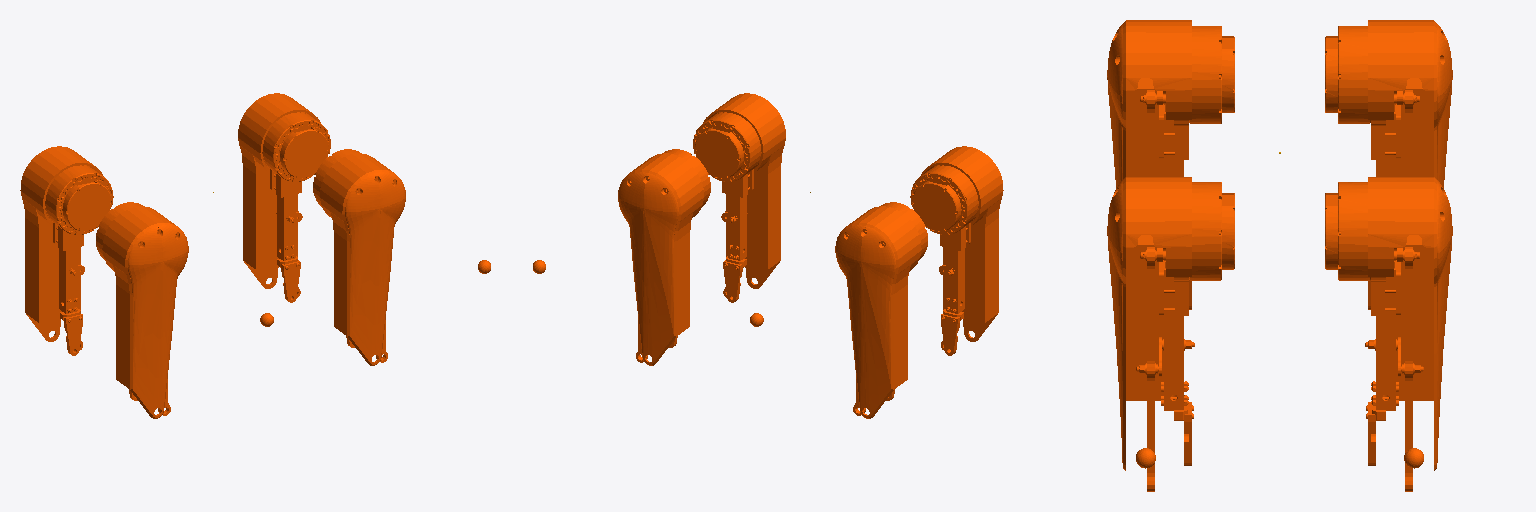
URDF robot description (a1):
<?xml version="1.0" encoding="utf-8"?>
<!-- =================================================================================== -->
<!-- |    This document was autogenerated by xacro from robot.xacro                    | -->
<!-- |    EDITING THIS FILE BY HAND IS NOT RECOMMENDED                                 | -->
<!-- =================================================================================== -->
<robot name="a1">
  <material name="black">
    <color rgba="0.0 0.0 0.0 1.0"/>
  </material>
  <material name="blue">
    <color rgba="0.0 0.0 0.8 1.0"/>
  </material>
  <material name="green">
    <color rgba="0.0 0.8 0.0 1.0"/>
  </material>
  <material name="grey">
    <color rgba="0.2 0.2 0.2 1.0"/>
  </material>
  <material name="silver">
    <color rgba="0.913725490196 0.913725490196 0.847058823529 1.0"/>
  </material>
  <material name="orange">
    <color rgba="1.0 0.423529411765 0.0392156862745 1.0"/>
  </material>
  <material name="brown">
    <color rgba="0.870588235294 0.811764705882 0.764705882353 1.0"/>
  </material>
  <material name="red">
    <color rgba="0.8 0.0 0.0 1.0"/>
  </material>
  <material name="white">
    <color rgba="1.0 1.0 1.0 1.0"/>
  </material>
  <link name="base">
    <visual>
      <origin rpy="0 0 0" xyz="0 0 0"/>
      <geometry>
        <box size="0.001 0.001 0.001"/>
      </geometry>
    </visual>
  </link>
  <joint name="floating_base" type="fixed">
    <origin rpy="0 0 0" xyz="0 0 0"/>
    <parent link="base"/>
    <child link="trunk"/>
  </joint>
  <link name="trunk">
    <visual>
      <origin rpy="0 0 0" xyz="0 0 0"/>
      <geometry>
           <mesh filename="../meshes/trunk.dae" scale="1 1 1"/>
      </geometry>
      <material name="black"/>
    </visual>
    <collision>
      <origin rpy="0 0 0" xyz="0 0 0"/>
      <geometry>
        <box size="0.267 0.194 0.114"/>
      </geometry>
    </collision>
    <inertial>
      <origin rpy="0 0 0" xyz="0.0 0.0041 -0.0005"/>
      <mass value="6.0"/>
      <inertia ixx="0.0158533" ixy="-3.66e-05" ixz="-6.11e-05" iyy="0.0377999" iyz="-2.75e-05" izz="0.0456542"/>
    </inertial>
  </link>
  <joint name="imu_joint" type="fixed">
    <parent link="trunk"/>
    <child link="imu_link"/>
    <origin rpy="0 0 0" xyz="0 0 0"/>
  </joint>
  <link name="imu_link">
    <inertial>
      <mass value="0.001"/>
      <origin rpy="0 0 0" xyz="0 0 0"/>
      <inertia ixx="0.0001" ixy="0" ixz="0" iyy="0.0001" iyz="0" izz="0.0001"/>
    </inertial>
    <visual>
      <origin rpy="0 0 0" xyz="0 0 0"/>
      <geometry>
        <box size="0.001 0.001 0.001"/>
      </geometry>
      <material name="red"/>
    </visual>
    <collision>
      <origin rpy="0 0 0" xyz="0 0 0"/>
      <geometry>
        <box size=".001 .001 .001"/>
      </geometry>
    </collision>
  </link>
  <joint name="FR_hip_joint" type="revolute">
    <origin rpy="0 0 0" xyz="0.1805 -0.047 0"/>
    <parent link="trunk"/>
    <child link="FR_hip"/>
    <axis xyz="1 0 0"/>
    <dynamics damping="0." friction="0.0"/>
    <limit effort="33.5" lower="-0.802851455917" upper="0.802851455917" velocity="21"/>
  </joint>
  <link name="FR_hip">
    <visual>
      <origin rpy="3.14159265359 0 0" xyz="0 0 0"/>
      <geometry>
           <mesh filename="../meshes/hip.dae" scale="1 1 1"/>
      </geometry>
      <material name="orange"/>
    </visual>
    <collision>
      <origin rpy="1.57079632679 0 0" xyz="0 0 0"/>
      <geometry>
        <cylinder length="0.04" radius="0.046"/>
      </geometry>
    </collision>
    <inertial>
      <origin rpy="0 0 0" xyz="-0.003311 -0.000635 3.1e-05"/>
      <mass value="0.696"/>
      <inertia ixx="0.000469246" ixy="9.409e-06" ixz="-3.42e-07" iyy="0.00080749" iyz="4.66e-07" izz="0.000552929"/>
    </inertial>
  </link>
  <joint name="FR_hip_fixed" type="fixed">
    <origin rpy="0 0 0" xyz="0 -0.081 0"/>
    <parent link="FR_hip"/>
    <child link="FR_thigh_shoulder"/>
  </joint>
  <!-- this link is only for collision -->
  <link name="FR_thigh_shoulder">
    <collision>
      <origin rpy="1.57079632679 0 0" xyz="0 0 0"/>
      <geometry>
        <cylinder length="0.032" radius="0.041"/>
      </geometry>
    </collision>
  </link>
  <joint name="FR_thigh_joint" type="revolute">
    <origin rpy="0 0 0" xyz="0 -0.0838 0"/>
    <parent link="FR_hip"/>
    <child link="FR_thigh"/>
    <axis xyz="0 1 0"/>
    <dynamics damping="0." friction="0.0"/>
    <limit effort="33.5" lower="-1.0471975512" upper="4.18879020479" velocity="21"/>
  </joint>
  <link name="FR_thigh">
    <visual>
      <origin rpy="0 0 0" xyz="0 0 0"/>
      <geometry>
           <mesh filename="../meshes/thigh_mirror.dae" scale="1 1 1"/>
      </geometry>
      <material name="orange"/>
    </visual>
    <collision>
      <origin rpy="0 1.57079632679 0" xyz="0 0 -0.1"/>
      <geometry>
        <box size="0.2 0.0245 0.034"/>
      </geometry>
    </collision>
    <inertial>
      <origin rpy="0 0 0" xyz="-0.003237 0.022327 -0.027326"/>
      <mass value="1.013"/>
      <inertia ixx="0.005529065" ixy="-4.825e-06" ixz="0.000343869" iyy="0.005139339" iyz="-2.2448e-05" izz="0.001367788"/>
    </inertial>
  </link>
  <joint name="FR_calf_joint" type="revolute">
    <origin rpy="0 0 0" xyz="0 0 -0.2"/>
    <parent link="FR_thigh"/>
    <child link="FR_calf"/>
    <axis xyz="0 1 0"/>
    <dynamics damping="0." friction="0.0"/>
    <limit effort="33.5" lower="-2.69653369433" upper="-0.916297857297" velocity="21"/>
  </joint>
  <link name="FR_calf">
    <visual>
      <origin rpy="0 0 0" xyz="0 0 0"/>
      <geometry>
           <mesh filename="../meshes/calf.dae" scale="1 1 1"/>
      </geometry>
      <material name="orange"/>
    </visual>
    <collision>
      <origin rpy="0 1.57079632679 0" xyz="0 0 -0.1"/>
      <geometry>
        <box size="0.2 0.016 0.016"/>
      </geometry>
    </collision>
    <inertial>
      <origin rpy="0 0 0" xyz="0.006435 0.0 -0.107388"/>
      <mass value="0.166"/>
      <inertia ixx="0.002997972" ixy="0.0" ixz="-0.000141163" iyy="0.003014022" iyz="0.0" izz="3.2426e-05"/>
    </inertial>
  </link>
  <joint name="FR_foot_fixed" type="fixed"  dont_collapse="true">
    <origin rpy="0 0 0" xyz="0 0 -0.2"/>
    <parent link="FR_calf"/>
    <child link="FR_foot"/>
  </joint>
  <link name="FR_foot">
    <visual>
      <origin rpy="0 0 0" xyz="0 0 0"/>
      <geometry>
        <sphere radius="0.01"/>
      </geometry>
      <material name="orange"/>
    </visual>
    <collision>
      <origin rpy="0 0 0" xyz="0 0 0"/>
      <geometry>
        <sphere radius="0.02"/>
      </geometry>
    </collision>
    <inertial>
      <mass value="0.06"/>
      <inertia ixx="9.6e-06" ixy="0.0" ixz="0.0" iyy="9.6e-06" iyz="0.0" izz="9.6e-06"/>
    </inertial>
  </link>
  <joint name="FL_hip_joint" type="revolute">
    <origin rpy="0 0 0" xyz="0.1805 0.047 0"/>
    <parent link="trunk"/>
    <child link="FL_hip"/>
    <axis xyz="1 0 0"/>
    <dynamics damping="0." friction="0.0"/>
    <limit effort="33.5" lower="-0.802851455917" upper="0.802851455917" velocity="21"/>
  </joint>
  <link name="FL_hip">
    <visual>
      <origin rpy="0 0 0" xyz="0 0 0"/>
      <geometry>
           <mesh filename="../meshes/hip.dae" scale="1 1 1"/>
      </geometry>
      <material name="orange"/>
    </visual>
    <collision>
      <origin rpy="1.57079632679 0 0" xyz="0 0 0"/>
      <geometry>
        <cylinder length="0.04" radius="0.046"/>
      </geometry>
    </collision>
    <inertial>
      <origin rpy="0 0 0" xyz="-0.003311 0.000635 3.1e-05"/>
      <mass value="0.696"/>
      <inertia ixx="0.000469246" ixy="-9.409e-06" ixz="-3.42e-07" iyy="0.00080749" iyz="-4.66e-07" izz="0.000552929"/>
    </inertial>
  </link>
  <joint name="FL_hip_fixed" type="fixed">
    <origin rpy="0 0 0" xyz="0 0.081 0"/>
    <parent link="FL_hip"/>
    <child link="FL_thigh_shoulder"/>
  </joint>
  <!-- this link is only for collision -->
  <link name="FL_thigh_shoulder">
    <collision>
      <origin rpy="1.57079632679 0 0" xyz="0 0 0"/>
      <geometry>
        <cylinder length="0.032" radius="0.041"/>
      </geometry>
    </collision>
  </link>
  <joint name="FL_thigh_joint" type="revolute">
    <origin rpy="0 0 0" xyz="0 0.0838 0"/>
    <parent link="FL_hip"/>
    <child link="FL_thigh"/>
    <axis xyz="0 1 0"/>
    <dynamics damping="0." friction="0.0"/>
    <limit effort="33.5" lower="-1.0471975512" upper="4.18879020479" velocity="21"/>
  </joint>
  <link name="FL_thigh">
    <visual>
      <origin rpy="0 0 0" xyz="0 0 0"/>
      <geometry>
           <mesh filename="../meshes/thigh.dae" scale="1 1 1"/>
      </geometry>
      <material name="orange"/>
    </visual>
    <collision>
      <origin rpy="0 1.57079632679 0" xyz="0 0 -0.1"/>
      <geometry>
        <box size="0.2 0.0245 0.034"/>
      </geometry>
    </collision>
    <inertial>
      <origin rpy="0 0 0" xyz="-0.003237 -0.022327 -0.027326"/>
      <mass value="1.013"/>
      <inertia ixx="0.005529065" ixy="4.825e-06" ixz="0.000343869" iyy="0.005139339" iyz="2.2448e-05" izz="0.001367788"/>
    </inertial>
  </link>
  <joint name="FL_calf_joint" type="revolute">
    <origin rpy="0 0 0" xyz="0 0 -0.2"/>
    <parent link="FL_thigh"/>
    <child link="FL_calf"/>
    <axis xyz="0 1 0"/>
    <dynamics damping="0." friction="0.0"/>
    <limit effort="33.5" lower="-2.69653369433" upper="-0.916297857297" velocity="21"/>
  </joint>
  <link name="FL_calf">
    <visual>
      <origin rpy="0 0 0" xyz="0 0 0"/>
      <geometry>
           <mesh filename="../meshes/calf.dae" scale="1 1 1"/>
      </geometry>
      <material name="orange"/>
    </visual>
    <collision>
      <origin rpy="0 1.57079632679 0" xyz="0 0 -0.1"/>
      <geometry>
        <box size="0.2 0.016 0.016"/>
      </geometry>
    </collision>
    <inertial>
      <origin rpy="0 0 0" xyz="0.006435 0.0 -0.107388"/>
      <mass value="0.166"/>
      <inertia ixx="0.002997972" ixy="0.0" ixz="-0.000141163" iyy="0.003014022" iyz="0.0" izz="3.2426e-05"/>
    </inertial>
  </link>
  <joint name="FL_foot_fixed" type="fixed"  dont_collapse="true">
    <origin rpy="0 0 0" xyz="0 0 -0.2"/>
    <parent link="FL_calf"/>
    <child link="FL_foot"/>
  </joint>
  <link name="FL_foot">
    <visual>
      <origin rpy="0 0 0" xyz="0 0 0"/>
      <geometry>
        <sphere radius="0.01"/>
      </geometry>
      <material name="orange"/>
    </visual>
    <collision>
      <origin rpy="0 0 0" xyz="0 0 0"/>
      <geometry>
        <sphere radius="0.02"/>
      </geometry>
    </collision>
    <inertial>
      <mass value="0.06"/>
      <inertia ixx="9.6e-06" ixy="0.0" ixz="0.0" iyy="9.6e-06" iyz="0.0" izz="9.6e-06"/>
    </inertial>
  </link>
  <joint name="RR_hip_joint" type="revolute">
    <origin rpy="0 0 0" xyz="-0.1805 -0.047 0"/>
    <parent link="trunk"/>
    <child link="RR_hip"/>
    <axis xyz="1 0 0"/>
    <dynamics damping="0." friction="0.0"/>
    <limit effort="33.5" lower="-0.802851455917" upper="0.802851455917" velocity="21"/>
  </joint>
  <link name="RR_hip">
    <visual>
      <origin rpy="3.14159265359 3.14159265359 0" xyz="0 0 0"/>
      <geometry>
           <mesh filename="../meshes/hip.dae" scale="1 1 1"/>
      </geometry>
      <material name="orange"/>
    </visual>
    <collision>
      <origin rpy="1.57079632679 0 0" xyz="0 0 0"/>
      <geometry>
        <cylinder length="0.04" radius="0.046"/>
      </geometry>
    </collision>
    <inertial>
      <origin rpy="0 0 0" xyz="0.003311 -0.000635 3.1e-05"/>
      <mass value="0.696"/>
      <inertia ixx="0.000469246" ixy="-9.409e-06" ixz="3.42e-07" iyy="0.00080749" iyz="4.66e-07" izz="0.000552929"/>
    </inertial>
  </link>
  <joint name="RR_hip_fixed" type="fixed">
    <origin rpy="0 0 0" xyz="0 -0.081 0"/>
    <parent link="RR_hip"/>
    <child link="RR_thigh_shoulder"/>
  </joint>
  <!-- this link is only for collision -->
  <link name="RR_thigh_shoulder">
    <collision>
      <origin rpy="1.57079632679 0 0" xyz="0 0 0"/>
      <geometry>
        <cylinder length="0.032" radius="0.041"/>
      </geometry>
    </collision>
  </link>
  <joint name="RR_thigh_joint" type="revolute">
    <origin rpy="0 0 0" xyz="0 -0.0838 0"/>
    <parent link="RR_hip"/>
    <child link="RR_thigh"/>
    <axis xyz="0 1 0"/>
    <dynamics damping="0." friction="0.0"/>
    <limit effort="33.5" lower="-1.0471975512" upper="4.18879020479" velocity="21"/>
  </joint>
  <link name="RR_thigh">
    <visual>
      <origin rpy="0 0 0" xyz="0 0 0"/>
      <geometry>
           <mesh filename="../meshes/thigh_mirror.dae" scale="1 1 1"/>
      </geometry>
      <material name="orange"/>
    </visual>
    <collision>
      <origin rpy="0 1.57079632679 0" xyz="0 0 -0.1"/>
      <geometry>
        <box size="0.2 0.0245 0.034"/>
      </geometry>
    </collision>
    <inertial>
      <origin rpy="0 0 0" xyz="-0.003237 0.022327 -0.027326"/>
      <mass value="1.013"/>
      <inertia ixx="0.005529065" ixy="-4.825e-06" ixz="0.000343869" iyy="0.005139339" iyz="-2.2448e-05" izz="0.001367788"/>
    </inertial>
  </link>
  <joint name="RR_calf_joint" type="revolute">
    <origin rpy="0 0 0" xyz="0 0 -0.2"/>
    <parent link="RR_thigh"/>
    <child link="RR_calf"/>
    <axis xyz="0 1 0"/>
    <dynamics damping="0." friction="0.0"/>
    <limit effort="33.5" lower="-2.69653369433" upper="-0.916297857297" velocity="21"/>
  </joint>
  <link name="RR_calf">
    <visual>
      <origin rpy="0 0 0" xyz="0 0 0"/>
      <geometry>
           <mesh filename="../meshes/calf.dae" scale="1 1 1"/>
      </geometry>
      <material name="orange"/>
    </visual>
    <collision>
      <origin rpy="0 1.57079632679 0" xyz="0 0 -0.1"/>
      <geometry>
        <box size="0.2 0.016 0.016"/>
      </geometry>
    </collision>
    <inertial>
      <origin rpy="0 0 0" xyz="0.006435 0.0 -0.107388"/>
      <mass value="0.166"/>
      <inertia ixx="0.002997972" ixy="0.0" ixz="-0.000141163" iyy="0.003014022" iyz="0.0" izz="3.2426e-05"/>
    </inertial>
  </link>
  <joint name="RR_foot_fixed" type="fixed"  dont_collapse="true">
    <origin rpy="0 0 0" xyz="0 0 -0.2"/>
    <parent link="RR_calf"/>
    <child link="RR_foot"/>
  </joint>
  <link name="RR_foot">
    <visual>
      <origin rpy="0 0 0" xyz="0 0 0"/>
      <geometry>
        <sphere radius="0.01"/>
      </geometry>
      <material name="orange"/>
    </visual>
    <collision>
      <origin rpy="0 0 0" xyz="0 0 0"/>
      <geometry>
        <sphere radius="0.02"/>
      </geometry>
    </collision>
    <inertial>
      <mass value="0.06"/>
      <inertia ixx="9.6e-06" ixy="0.0" ixz="0.0" iyy="9.6e-06" iyz="0.0" izz="9.6e-06"/>
    </inertial>
  </link>
  <joint name="RL_hip_joint" type="revolute">
    <origin rpy="0 0 0" xyz="-0.1805 0.047 0"/>
    <parent link="trunk"/>
    <child link="RL_hip"/>
    <axis xyz="1 0 0"/>
    <dynamics damping="0." friction="0.0"/>
    <limit effort="33.5" lower="-0.802851455917" upper="0.802851455917" velocity="21"/>
  </joint>
  <link name="RL_hip">
    <visual>
      <origin rpy="0 3.14159265359 0" xyz="0 0 0"/>
      <geometry>
           <mesh filename="../meshes/hip.dae" scale="1 1 1"/>
      </geometry>
      <material name="orange"/>
    </visual>
    <collision>
      <origin rpy="1.57079632679 0 0" xyz="0 0 0"/>
      <geometry>
        <cylinder length="0.04" radius="0.046"/>
      </geometry>
    </collision>
    <inertial>
      <origin rpy="0 0 0" xyz="0.003311 0.000635 3.1e-05"/>
      <mass value="0.696"/>
      <inertia ixx="0.000469246" ixy="9.409e-06" ixz="3.42e-07" iyy="0.00080749" iyz="-4.66e-07" izz="0.000552929"/>
    </inertial>
  </link>
  <joint name="RL_hip_fixed" type="fixed">
    <origin rpy="0 0 0" xyz="0 0.081 0"/>
    <parent link="RL_hip"/>
    <child link="RL_thigh_shoulder"/>
  </joint>
  <!-- this link is only for collision -->
  <link name="RL_thigh_shoulder">
    <collision>
      <origin rpy="1.57079632679 0 0" xyz="0 0 0"/>
      <geometry>
        <cylinder length="0.032" radius="0.041"/>
      </geometry>
    </collision>
  </link>
  <joint name="RL_thigh_joint" type="revolute">
    <origin rpy="0 0 0" xyz="0 0.0838 0"/>
    <parent link="RL_hip"/>
    <child link="RL_thigh"/>
    <axis xyz="0 1 0"/>
    <dynamics damping="0." friction="0.0"/>
    <limit effort="33.5" lower="-1.0471975512" upper="4.18879020479" velocity="21"/>
  </joint>
  <link name="RL_thigh">
    <visual>
      <origin rpy="0 0 0" xyz="0 0 0"/>
      <geometry>
           <mesh filename="../meshes/thigh.dae" scale="1 1 1"/>
      </geometry>
      <material name="orange"/>
    </visual>
    <collision>
      <origin rpy="0 1.57079632679 0" xyz="0 0 -0.1"/>
      <geometry>
        <box size="0.2 0.0245 0.034"/>
      </geometry>
    </collision>
    <inertial>
      <origin rpy="0 0 0" xyz="-0.003237 -0.022327 -0.027326"/>
      <mass value="1.013"/>
      <inertia ixx="0.005529065" ixy="4.825e-06" ixz="0.000343869" iyy="0.005139339" iyz="2.2448e-05" izz="0.001367788"/>
    </inertial>
  </link>
  <joint name="RL_calf_joint" type="revolute">
    <origin rpy="0 0 0" xyz="0 0 -0.2"/>
    <parent link="RL_thigh"/>
    <child link="RL_calf"/>
    <axis xyz="0 1 0"/>
    <dynamics damping="0." friction="0.0"/>
    <limit effort="33.5" lower="-2.69653369433" upper="-0.916297857297" velocity="21"/>
  </joint>
  <link name="RL_calf">
    <visual>
      <origin rpy="0 0 0" xyz="0 0 0"/>
      <geometry>
           <mesh filename="../meshes/calf.dae" scale="1 1 1"/>
      </geometry>
      <material name="orange"/>
    </visual>
    <collision>
      <origin rpy="0 1.57079632679 0" xyz="0 0 -0.1"/>
      <geometry>
        <box size="0.2 0.016 0.016"/>
      </geometry>
    </collision>
    <inertial>
      <origin rpy="0 0 0" xyz="0.006435 0.0 -0.107388"/>
      <mass value="0.166"/>
      <inertia ixx="0.002997972" ixy="0.0" ixz="-0.000141163" iyy="0.003014022" iyz="0.0" izz="3.2426e-05"/>
    </inertial>
  </link>
  <joint name="RL_foot_fixed" type="fixed"  dont_collapse="true">
    <origin rpy="0 0 0" xyz="0 0 -0.2"/>
    <parent link="RL_calf"/>
    <child link="RL_foot"/>
  </joint>
  <link name="RL_foot">
    <visual>
      <origin rpy="0 0 0" xyz="0 0 0"/>
      <geometry>
        <sphere radius="0.01"/>
      </geometry>
      <material name="orange"/>
    </visual>
    <collision>
      <origin rpy="0 0 0" xyz="0 0 0"/>
      <geometry>
        <sphere radius="0.02"/>
      </geometry>
    </collision>
    <inertial>
      <mass value="0.06"/>
      <inertia ixx="9.6e-06" ixy="0.0" ixz="0.0" iyy="9.6e-06" iyz="0.0" izz="9.6e-06"/>
    </inertial>
  </link>
</robot>

--- Facts derived from the render (not from the file) ---
The picture shows the robot from 3 angles, left to right: view 1: azimuth 30°, elevation 25°; view 2: azimuth 150°, elevation 25°; view 3: azimuth 270°, elevation 25°; orthographic projection.
Model a1 with 23 links and 22 joints (12 revolute, 10 fixed), rooted at base, posed all joints at 0 but 4 set to mid-range because 0 is outside their limits (FR_calf_joint = -1.81, FL_calf_joint = -1.81, RR_calf_joint = -1.81, RL_calf_joint = -1.81).
Links seen in each view (by area): view 1: RR_thigh, FR_thigh, RL_thigh, FL_thigh; view 2: RL_thigh, FL_thigh, RR_thigh, FR_thigh; view 3: FR_thigh, FL_thigh, RR_thigh, RL_thigh.
Boxes of the visible links, x1,y1,x2,y2 form: RR_thigh: (96,202,188,418); FR_thigh: (313,149,405,365); RL_thigh: (20,146,113,355); FL_thigh: (238,93,330,302); RL_thigh: (835,202,927,418); FL_thigh: (618,149,710,365); RR_thigh: (910,146,1003,355); FR_thigh: (693,93,785,302); FR_thigh: (1107,177,1234,491); FL_thigh: (1325,177,1452,491); RR_thigh: (1107,20,1234,309); RL_thigh: (1325,20,1452,309).
Bounding box of the posed robot: 0.6184 × 0.3366 × 0.3193 m (x, y, z).
Meshes: 5 distinct files referenced, 4 mesh visuals loaded (2 Collada DAE); not drawn: 9 (reference not matched to a file when rendering).